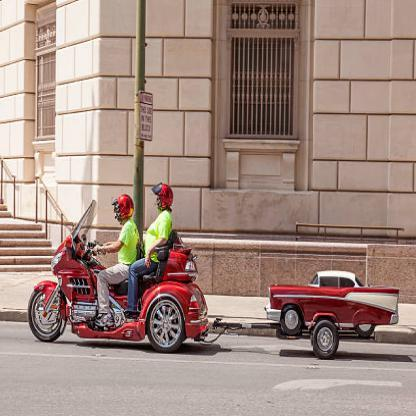Motorcycle: (24, 211, 211, 352)
